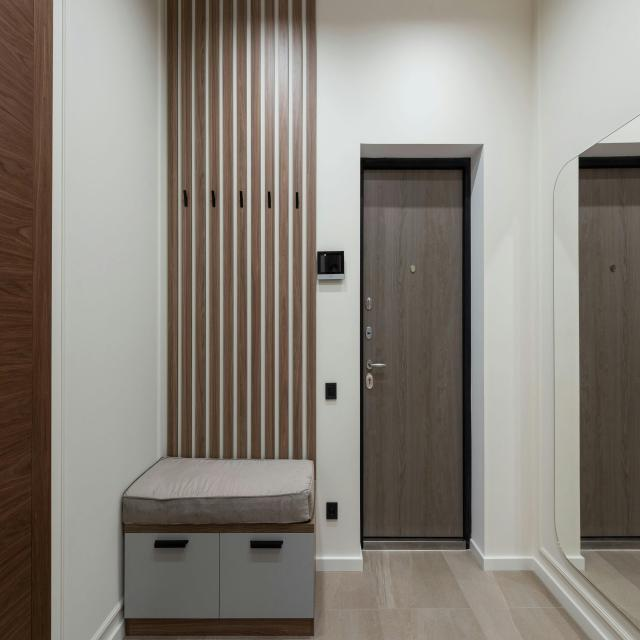door-handle: (366, 360, 386, 369)
